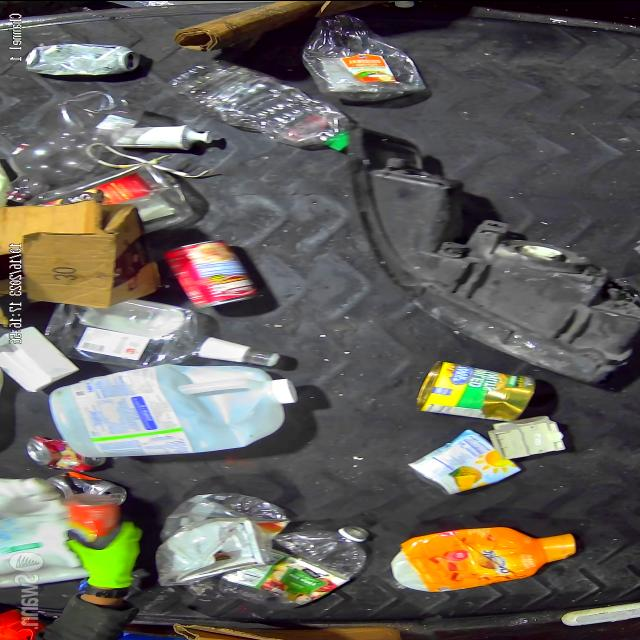can: (404, 428, 524, 494), (417, 358, 539, 422), (162, 242, 263, 312), (26, 38, 146, 78), (18, 432, 110, 472), (44, 466, 132, 504)
milk_jug: (42, 364, 310, 459)
non_white_jug: (388, 522, 586, 591)
plastic_bottle: (165, 59, 358, 151), (222, 528, 376, 608), (302, 12, 428, 108)
